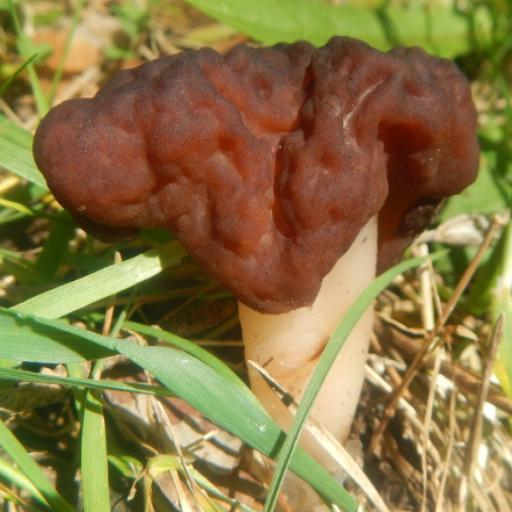mushroom: (31, 30, 487, 346)
